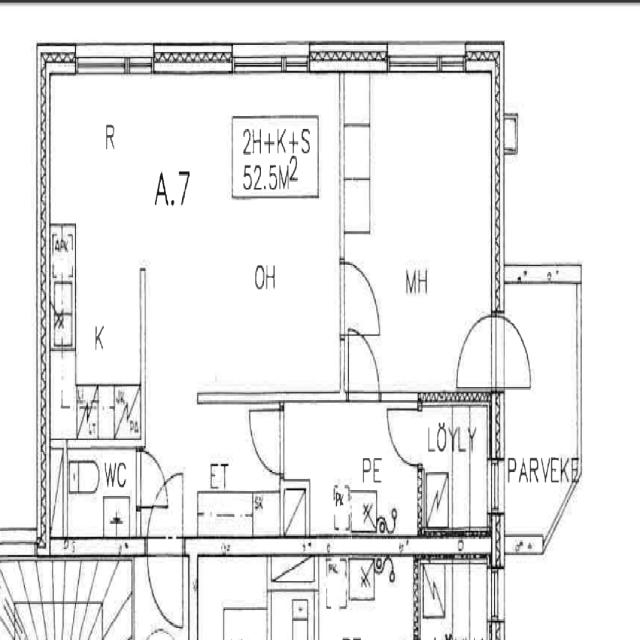door: (146, 467, 188, 633), (337, 250, 384, 340), (453, 306, 497, 392), (341, 325, 384, 405), (246, 401, 287, 482), (382, 392, 422, 471), (497, 311, 533, 390), (136, 448, 169, 509)
window: (383, 38, 469, 82), (232, 42, 314, 80), (73, 47, 130, 81), (1, 531, 40, 567), (486, 455, 505, 522)
zone: (145, 72, 342, 403), (346, 62, 498, 394), (46, 70, 142, 443), (279, 400, 423, 538), (184, 401, 286, 542), (418, 401, 490, 538), (51, 444, 136, 537)
